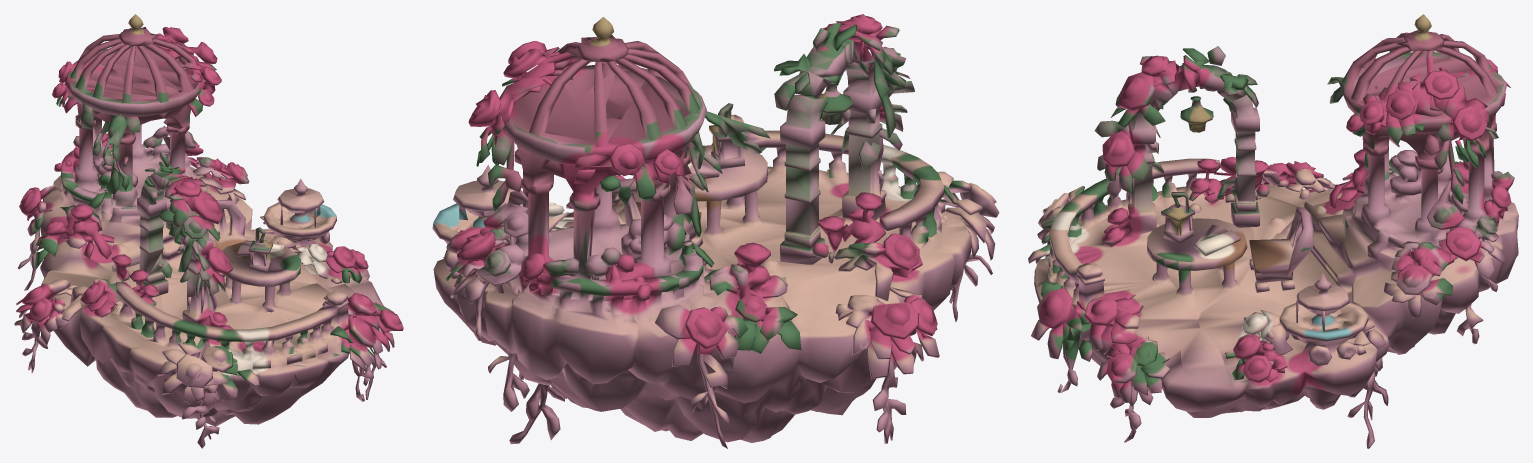
File: rose.glb
3 views of the same model, side by side, from view 1: azimuth 30°, elevation 25°; view 2: azimuth 150°, elevation 25°; view 3: azimuth 270°, elevation 25° (orthographic). The views are drawn at different scales.
Parts seen in each view (by area): view 1: UserWorld_rose; view 2: UserWorld_rose; view 3: UserWorld_rose.
Boxes of the visible parts, box(x1,y1,x2,y2) form: UserWorld_rose: box(14, 14, 403, 448); UserWorld_rose: box(432, 14, 999, 448); UserWorld_rose: box(1028, 14, 1518, 448).
Bounding box in the file's own units: 9.69 × 9.66 × 10.64.
Materials: 1 (1 with a texture image).
